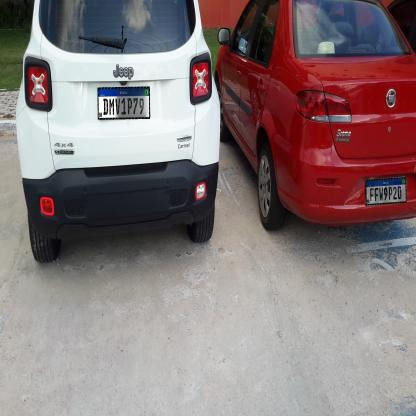PlacaM: (98, 86, 150, 120), (366, 177, 406, 205)
